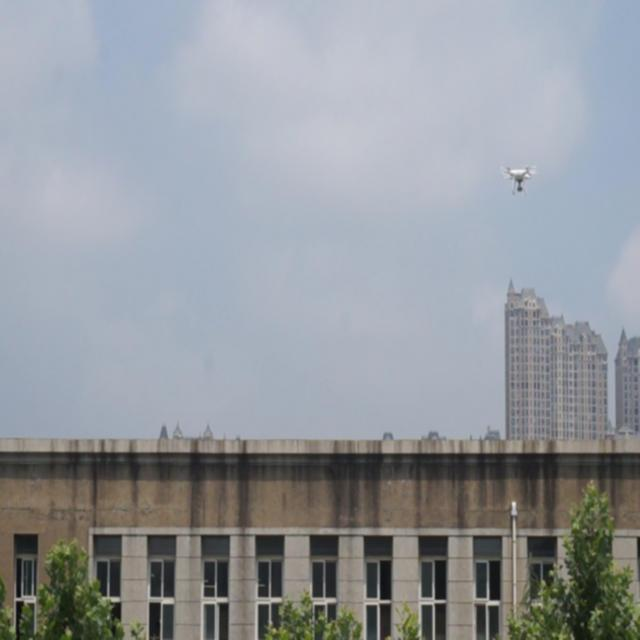UAV: (499, 166, 538, 196)
